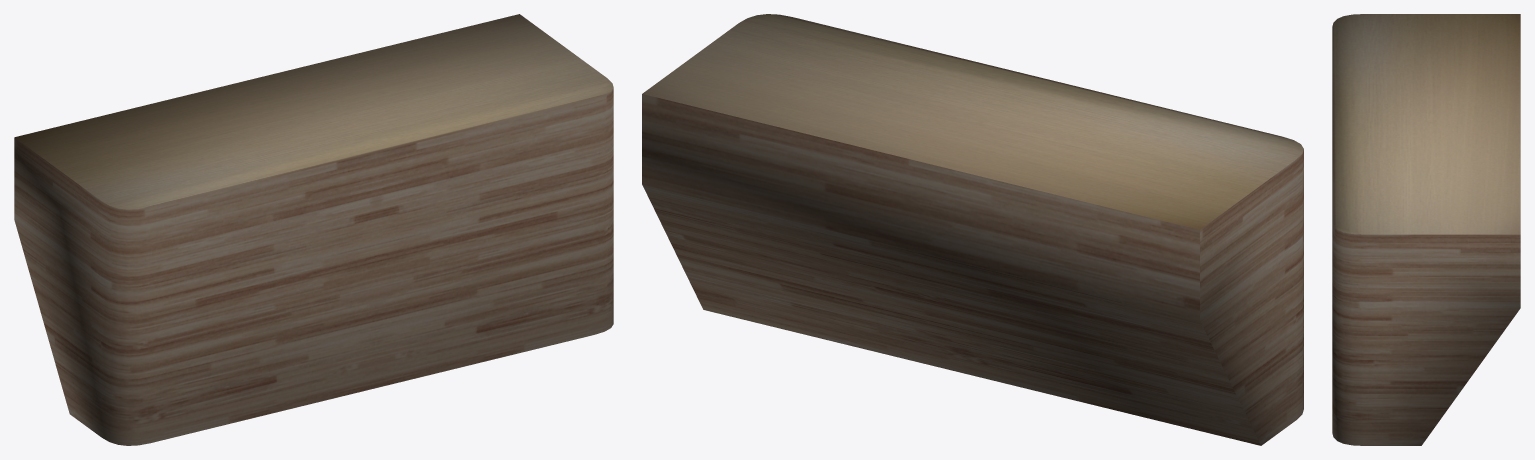
File: 髮廊櫃台.FBX
3 views of the same model, side by side, from view 1: azimuth 30°, elevation 25°; view 2: azimuth 150°, elevation 25°; view 3: azimuth 270°, elevation 25° (orthographic). The views are drawn at different scales.
Visible parts, largest first — view 1: Object010; view 2: Object010; view 3: Object010.
Boxes of the visible parts, <box> form: Object010: <box>14,14,613,445</box>; Object010: <box>642,14,1303,445</box>; Object010: <box>1332,14,1520,445</box>.
Size of the model in its own units: 288 by 129 by 104.
1 material, 1 textured.
